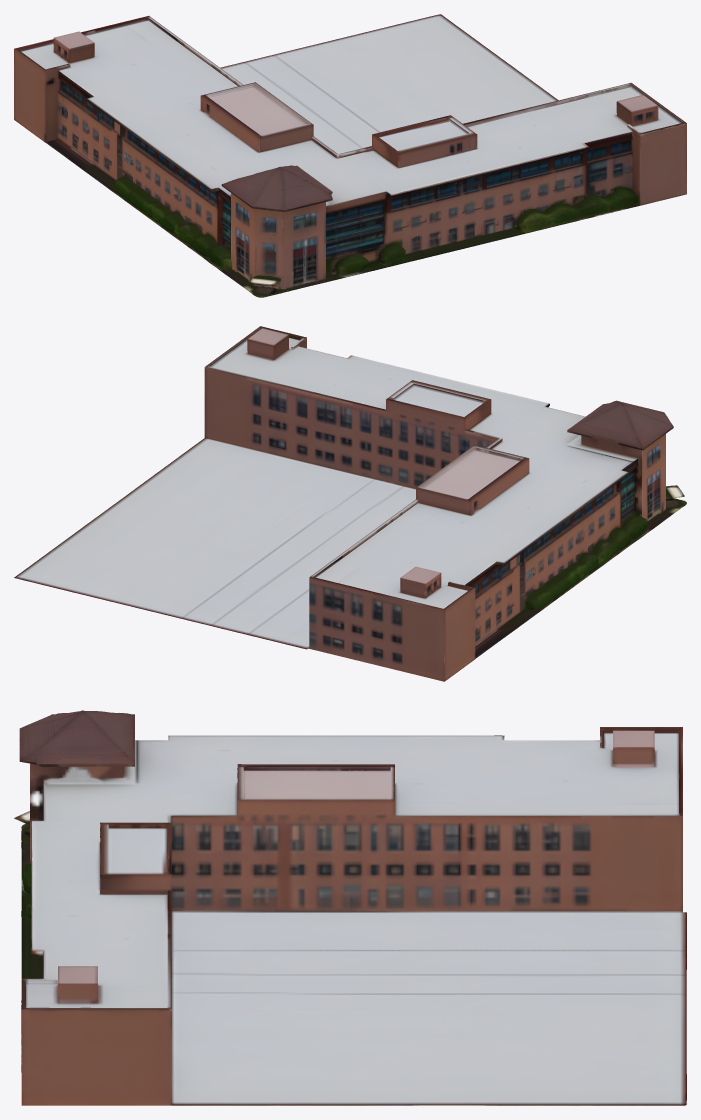
The model's file is base_basic_shaded.fbx.
3 renders of one model, top to bottom at view 1: azimuth 30°, elevation 25°; view 2: azimuth 150°, elevation 25°; view 3: azimuth 270°, elevation 25°, orthographic. The views are drawn at different scales.
Visible parts, largest first — view 1: model; view 2: model; view 3: model.
Boxes of the visible parts, left/top/right/bottom form: model: left=14, top=14, right=686, bottom=297; model: left=14, top=326, right=686, bottom=681; model: left=14, top=710, right=686, bottom=1105.
Bounding box in the file's own units: 177 × 41.67 × 177.
